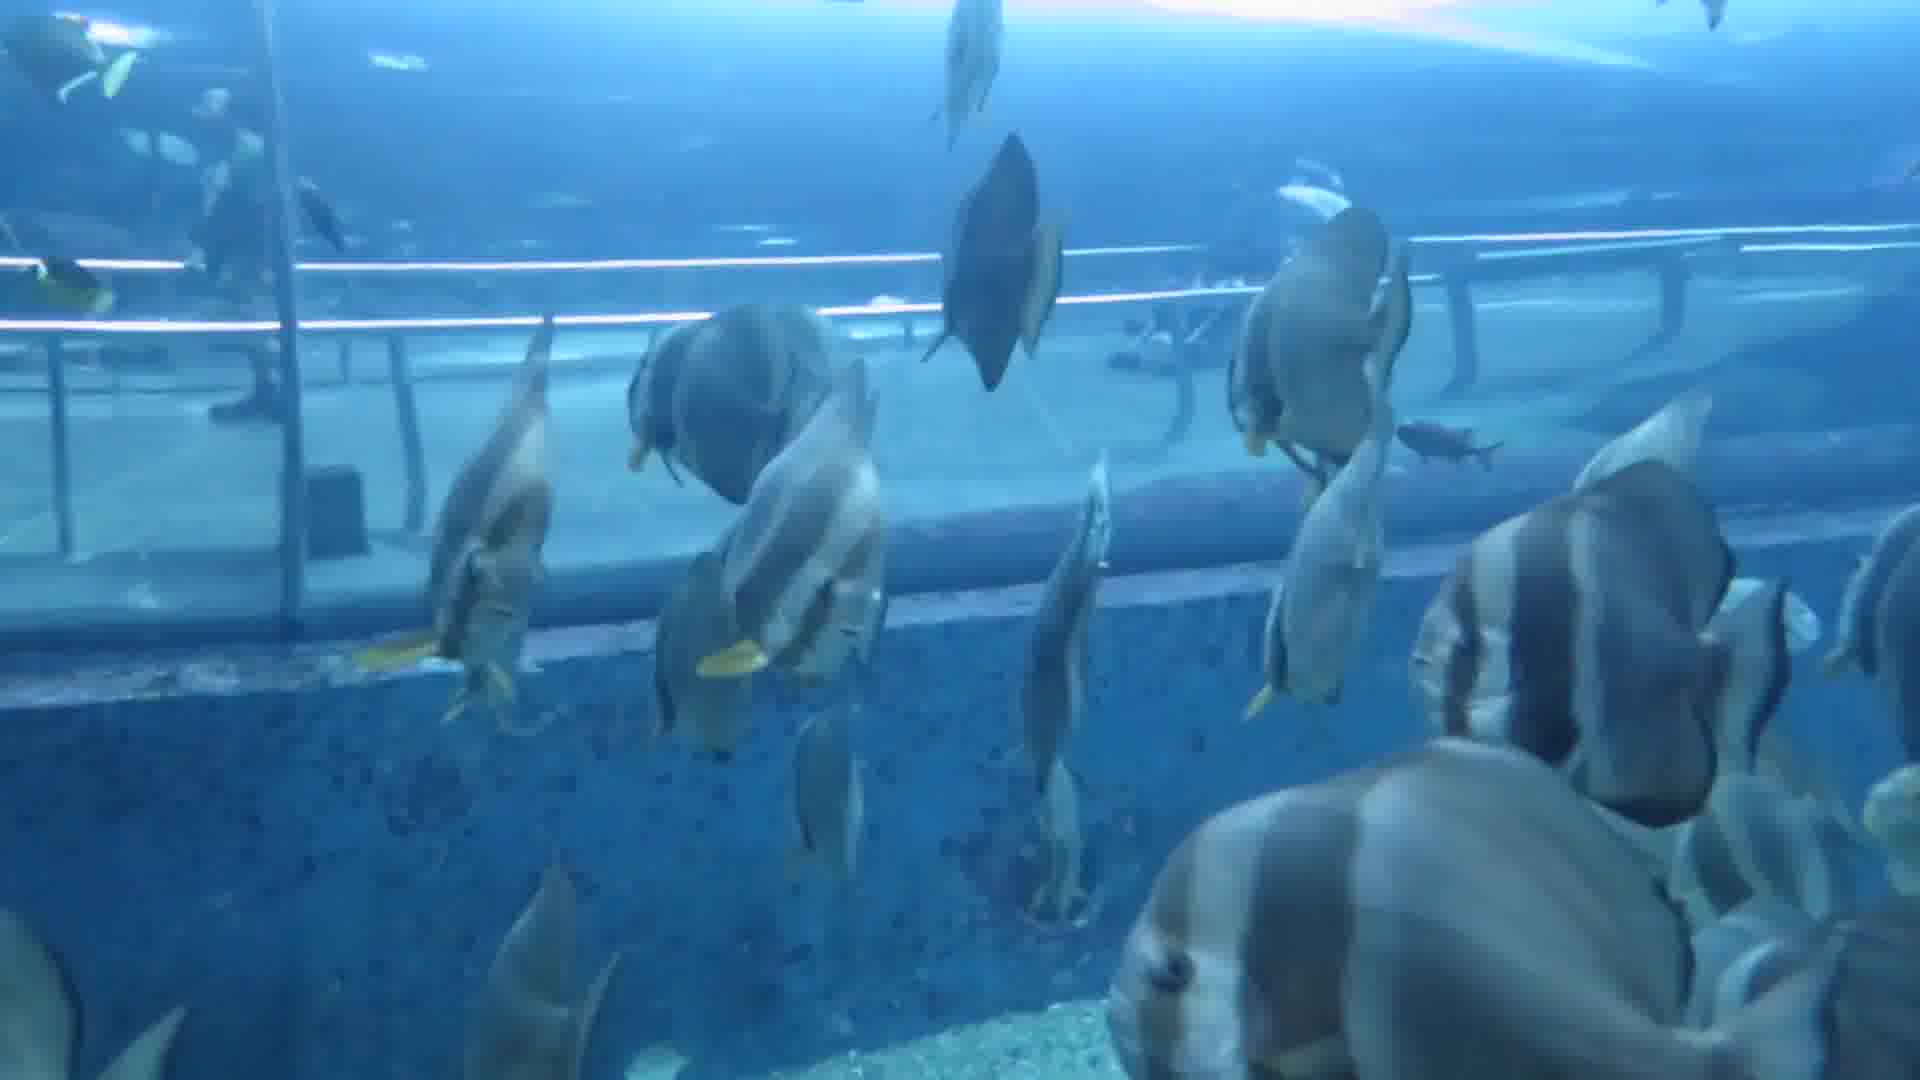Platax teira: (1076, 757, 1745, 1069), (1403, 462, 1862, 796), (657, 339, 960, 692), (345, 343, 649, 696), (1189, 202, 1465, 463)
